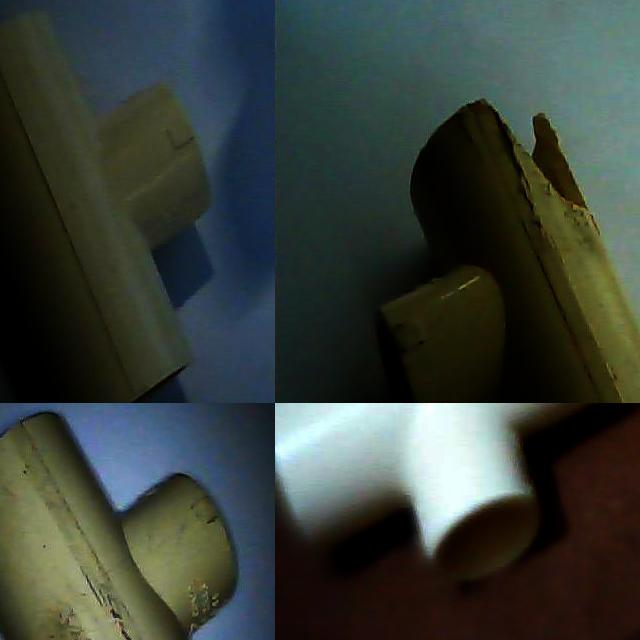Defective: (482, 98, 592, 214)
T Joint: (0, 11, 209, 403), (379, 100, 640, 403), (275, 403, 608, 585), (0, 411, 239, 640)
